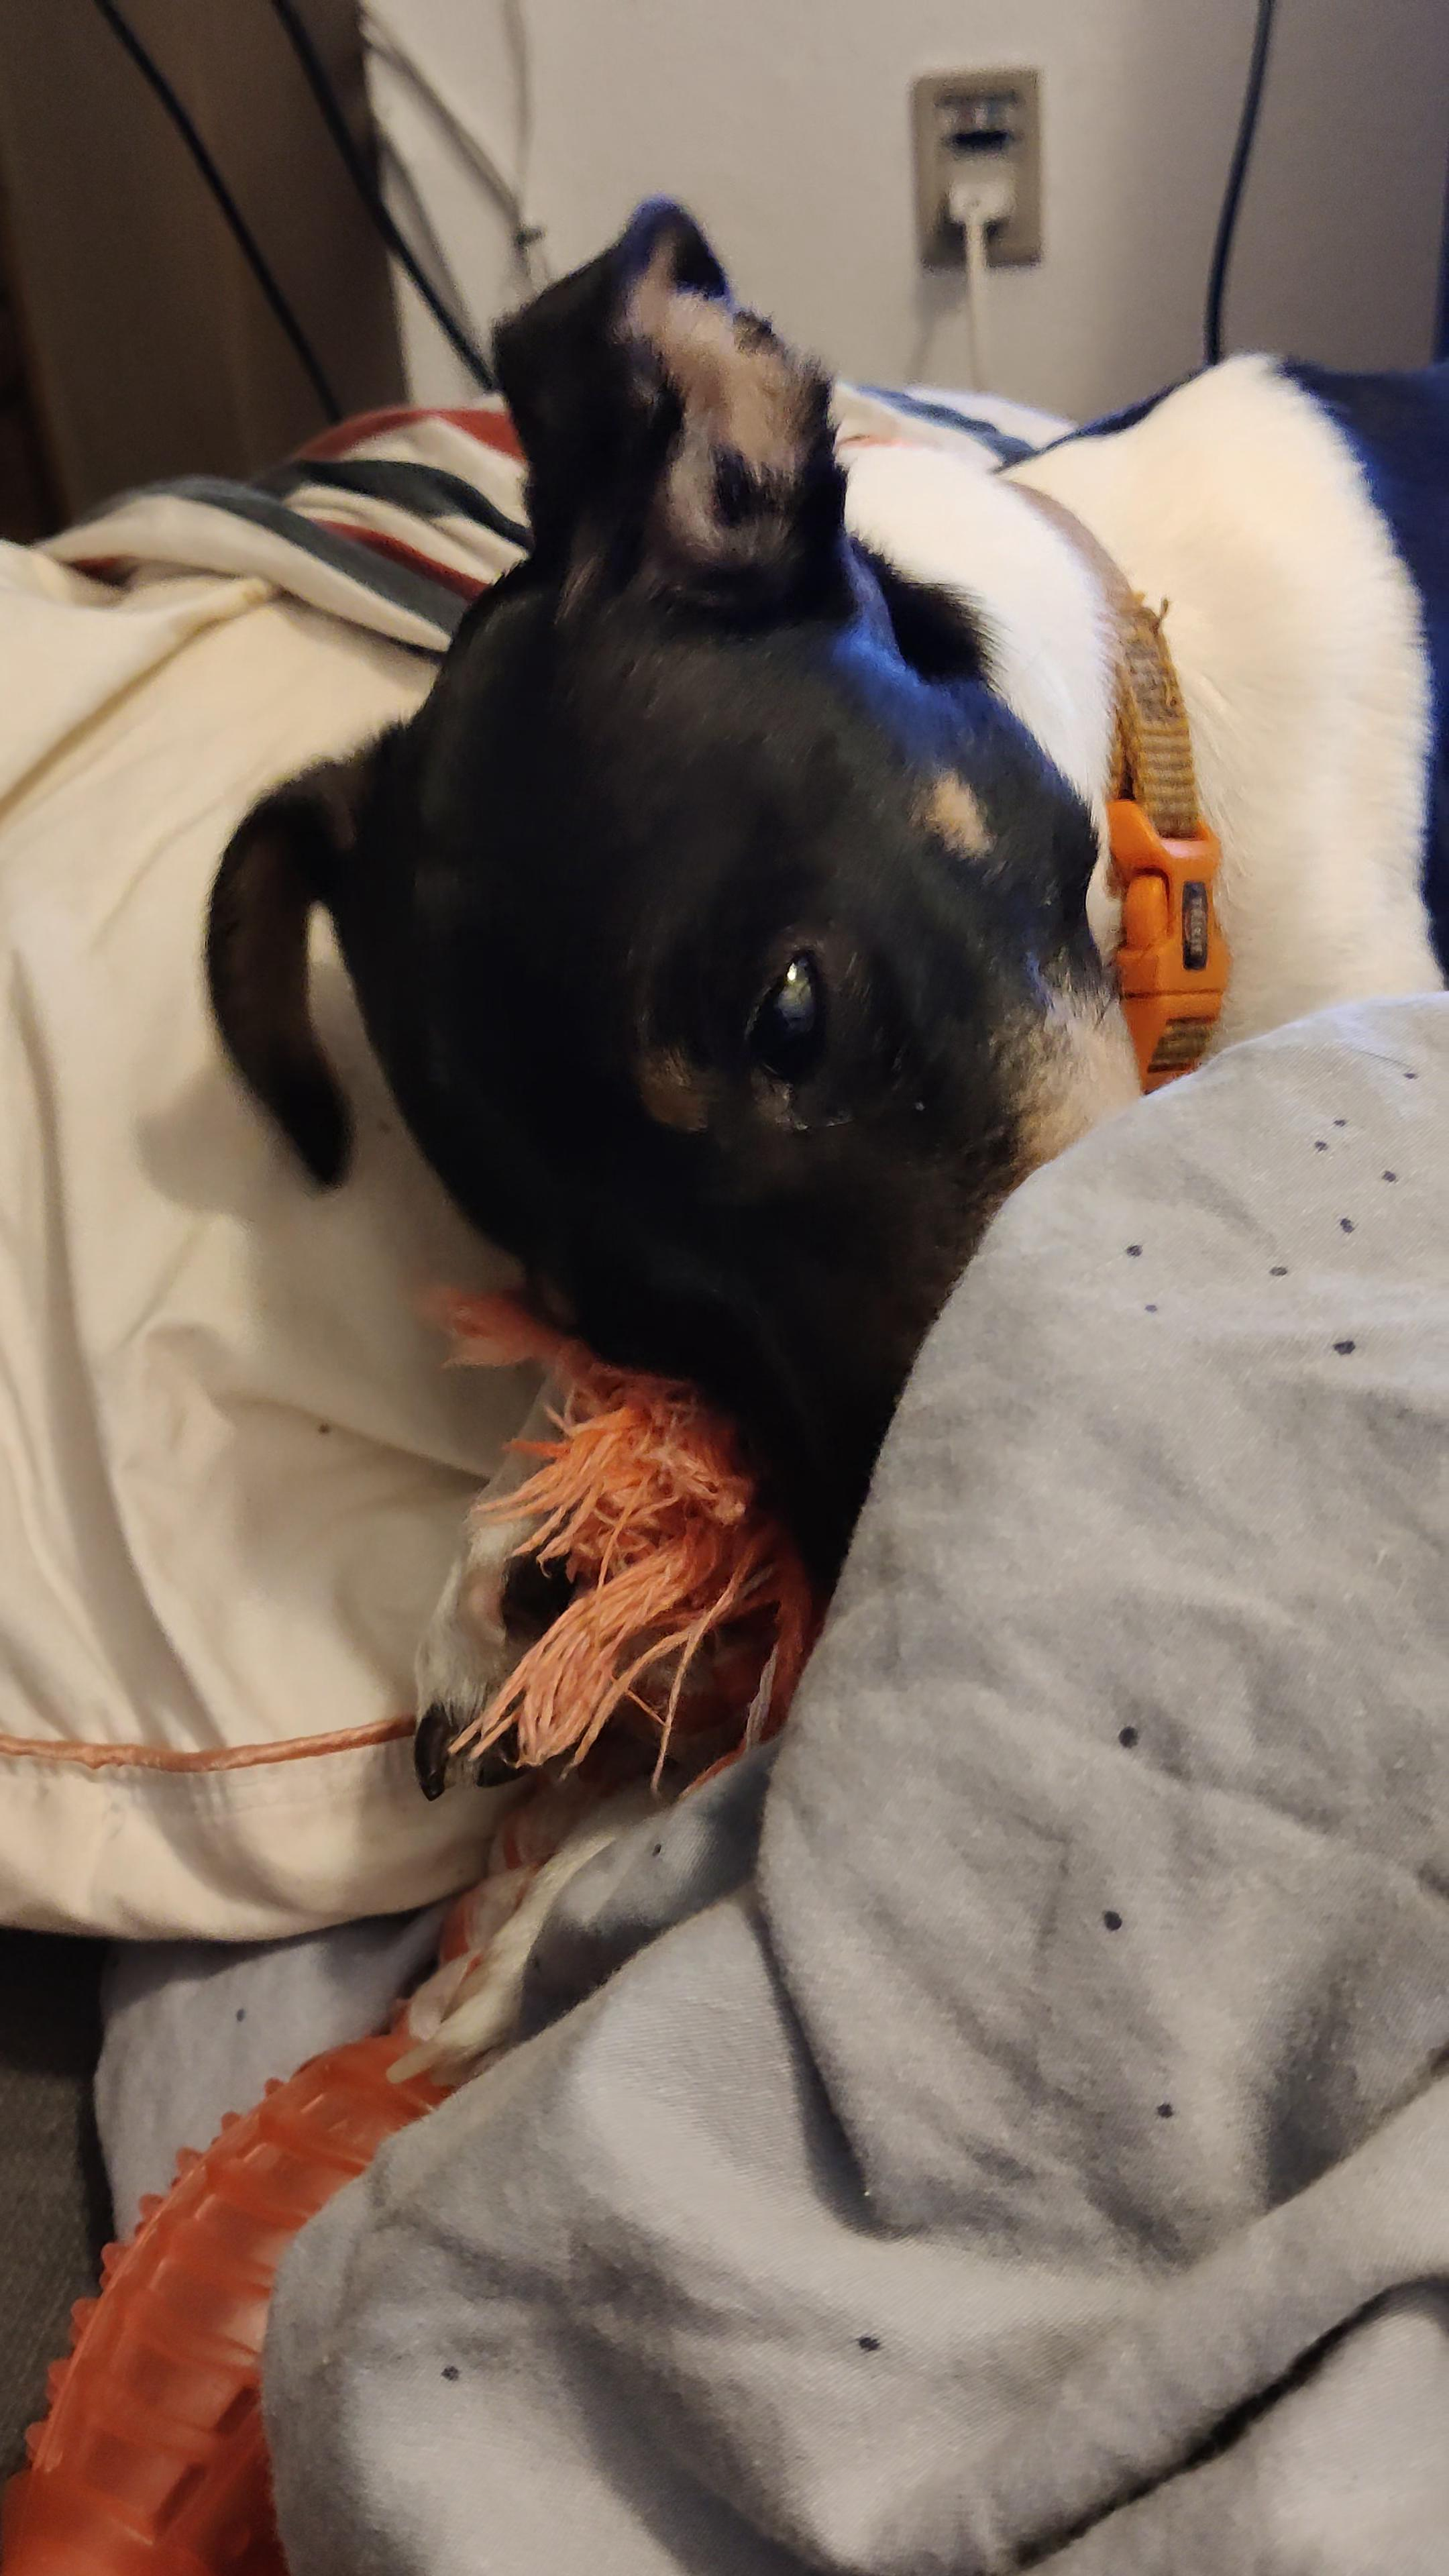Dog: (180, 172, 1449, 2098)
